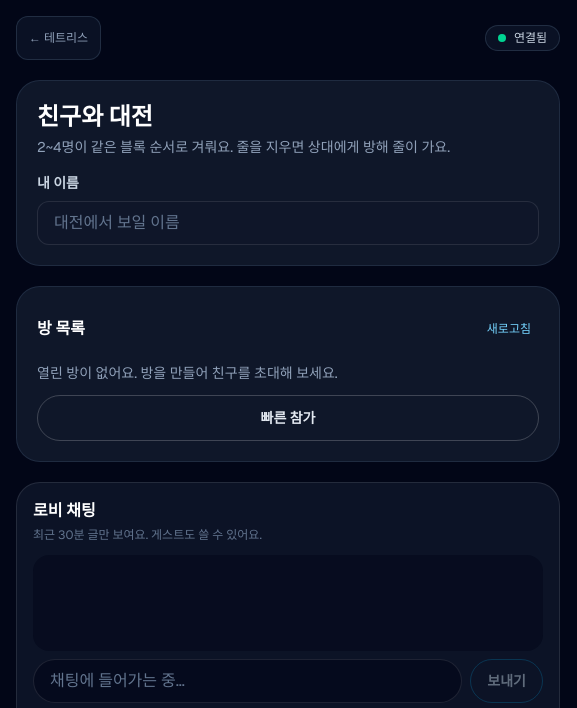
Test: BattleLobby 방 목록 (games-polish 새로고침·FE-33) › 새로고침은 응답을 받을 때까지 잠근다 — 연타로 목록 한도(RATE_LIMITED)에 걸리지 않게
Click the button "새로고침".
click(509, 329)  # box [479,307,539,351]
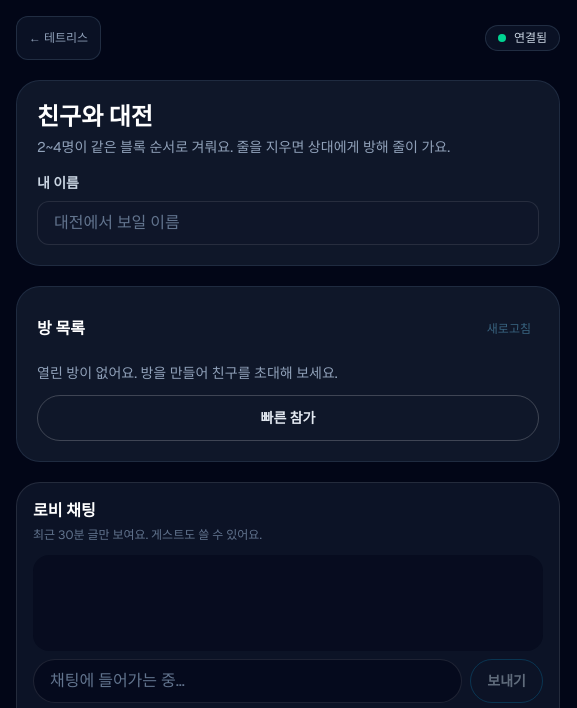
Expected: the button "새로고침" is disabled
Click the button "새로고침".
click(509, 329)  # box [479,307,539,351]
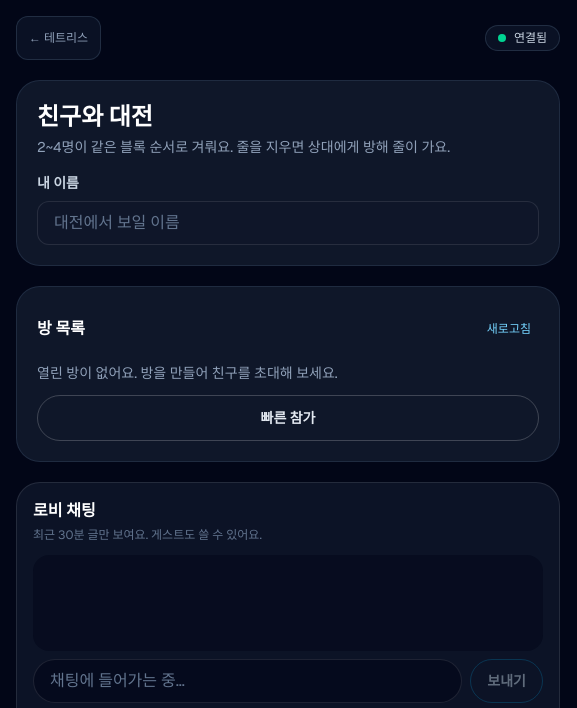
Expected: the button "새로고침" is enabled, [479,307,539,351]
